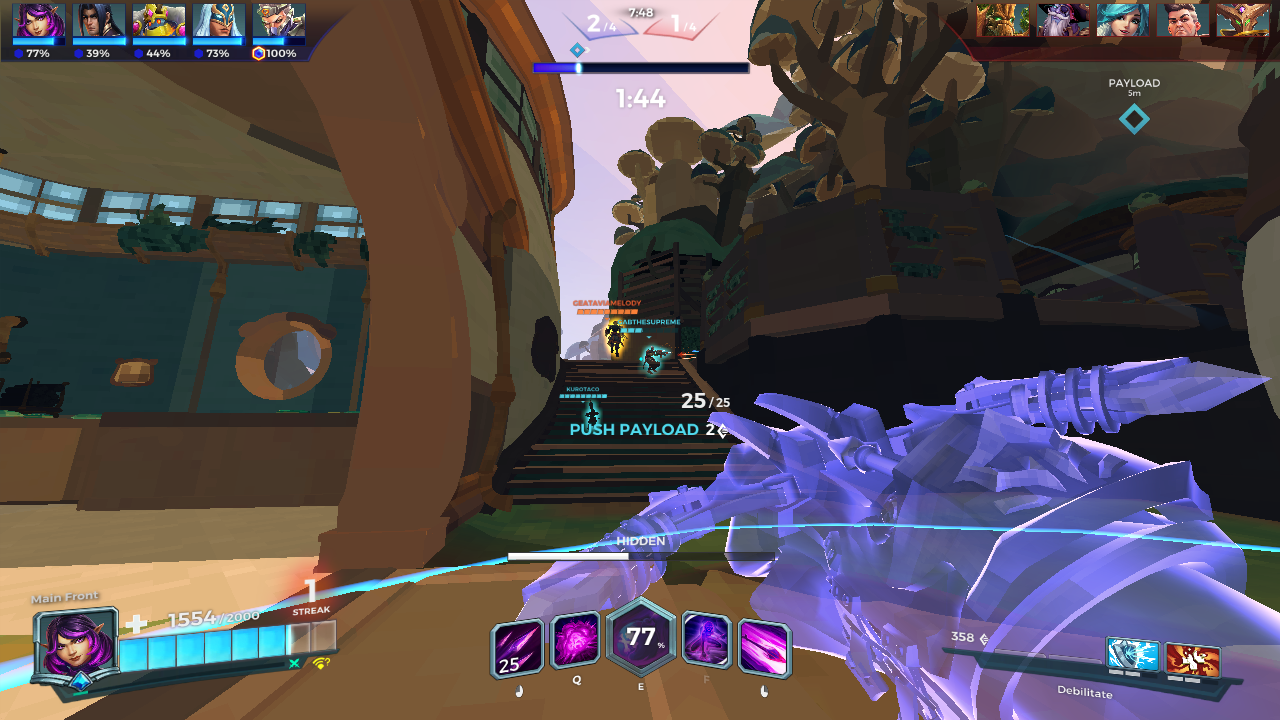model: (599, 317, 631, 362)
